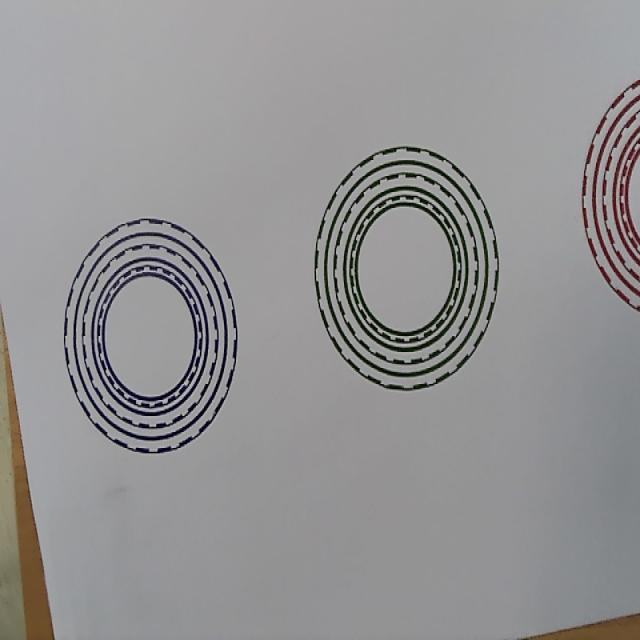b: (63, 218, 238, 456)
g: (314, 145, 499, 392)
